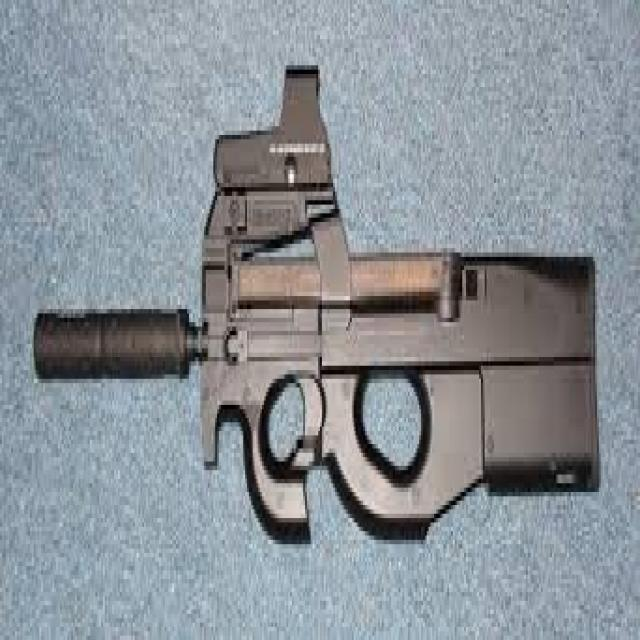Gun: (28, 83, 611, 559)
